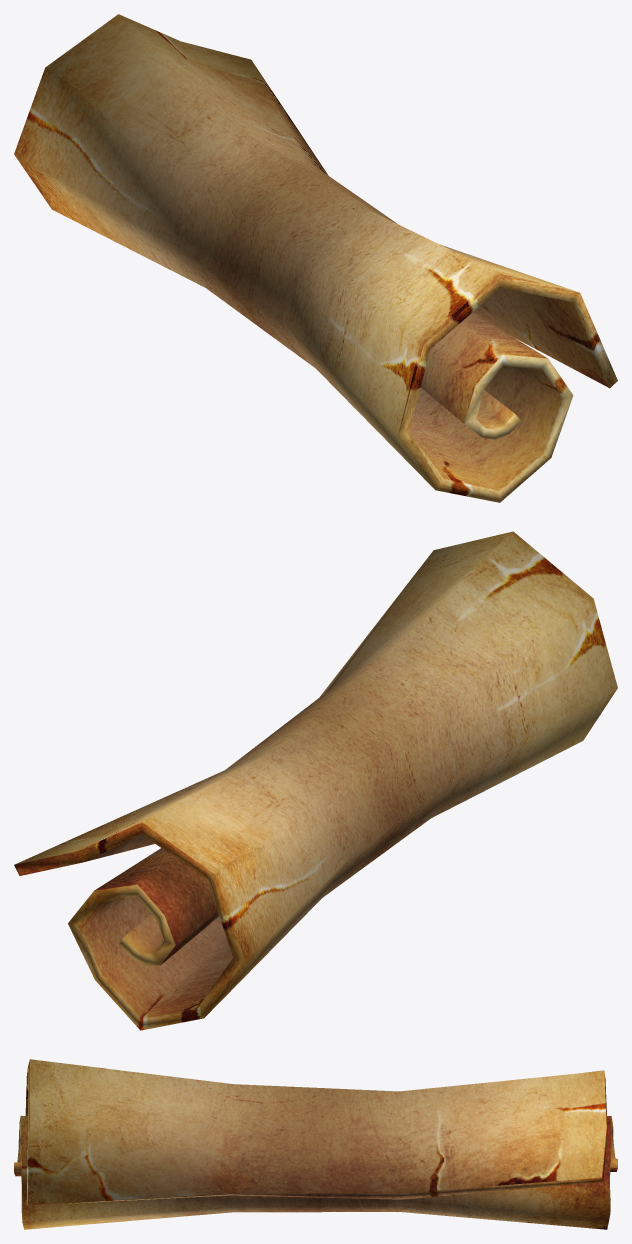
File: Scroll-simple.fbx
3 views of the same model, one above another, from view 1: azimuth 30°, elevation 25°; view 2: azimuth 150°, elevation 25°; view 3: azimuth 270°, elevation 25° (orthographic). The views are drawn at different scales.
Visible parts, largest first — view 1: Scroll-simple; view 2: Scroll-simple; view 3: Scroll-simple.
Part boxes in pixels (x1,y1,x2,y2): Scroll-simple: (14, 14, 617, 502); Scroll-simple: (14, 531, 617, 1030); Scroll-simple: (14, 1059, 617, 1229).
Size of the model in its own units: 1.17 by 1.07 by 3.41.
